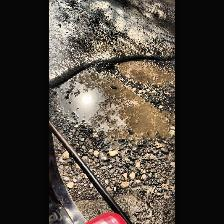pothole: (50, 54, 174, 152)
